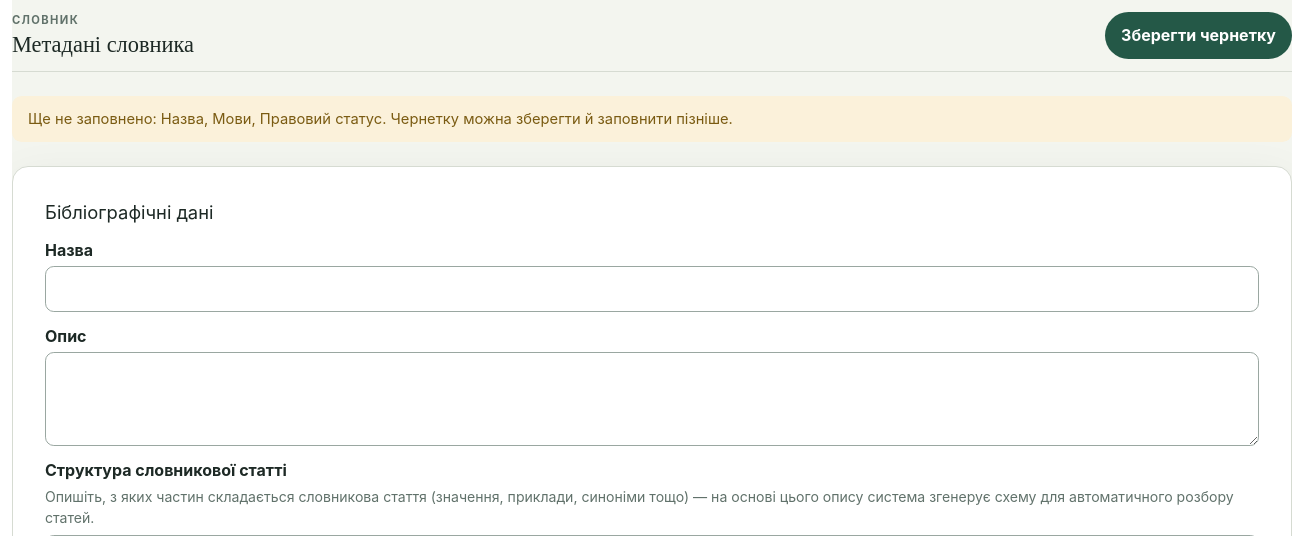
Test: DictionaryMetadataForm › maps field-level errors returned by the server
Click the button "Зберегти чернетку". click: (1199, 35)
box: [1105,12,1292,59]
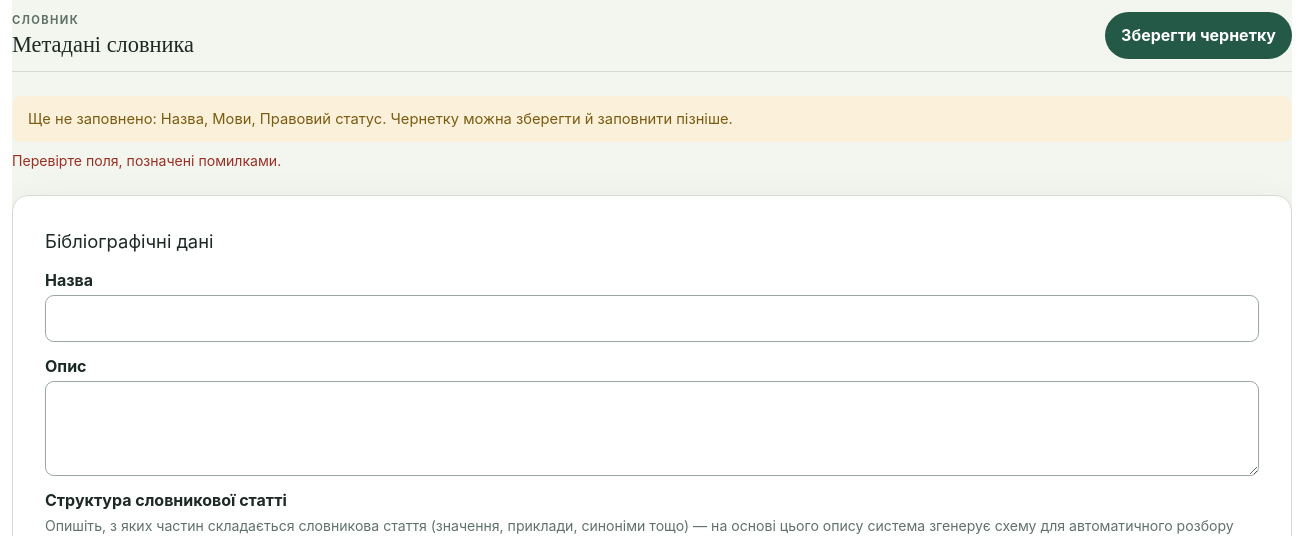
Expected: the message "Перевірте поля, позначені помилками." is shown, [12,152,281,169]
